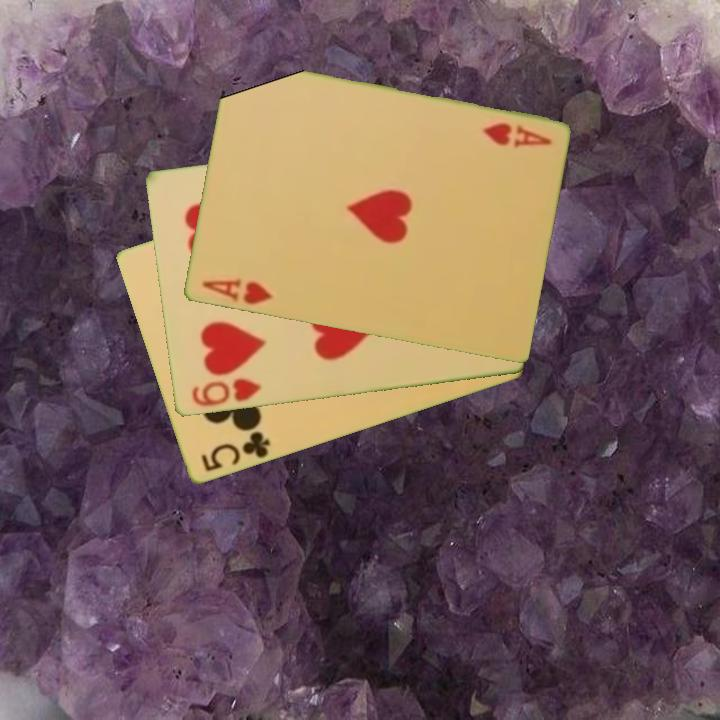5c: (197, 428, 273, 475)
6h: (188, 375, 264, 410)
Ah: (198, 275, 275, 308), (479, 119, 554, 150)
